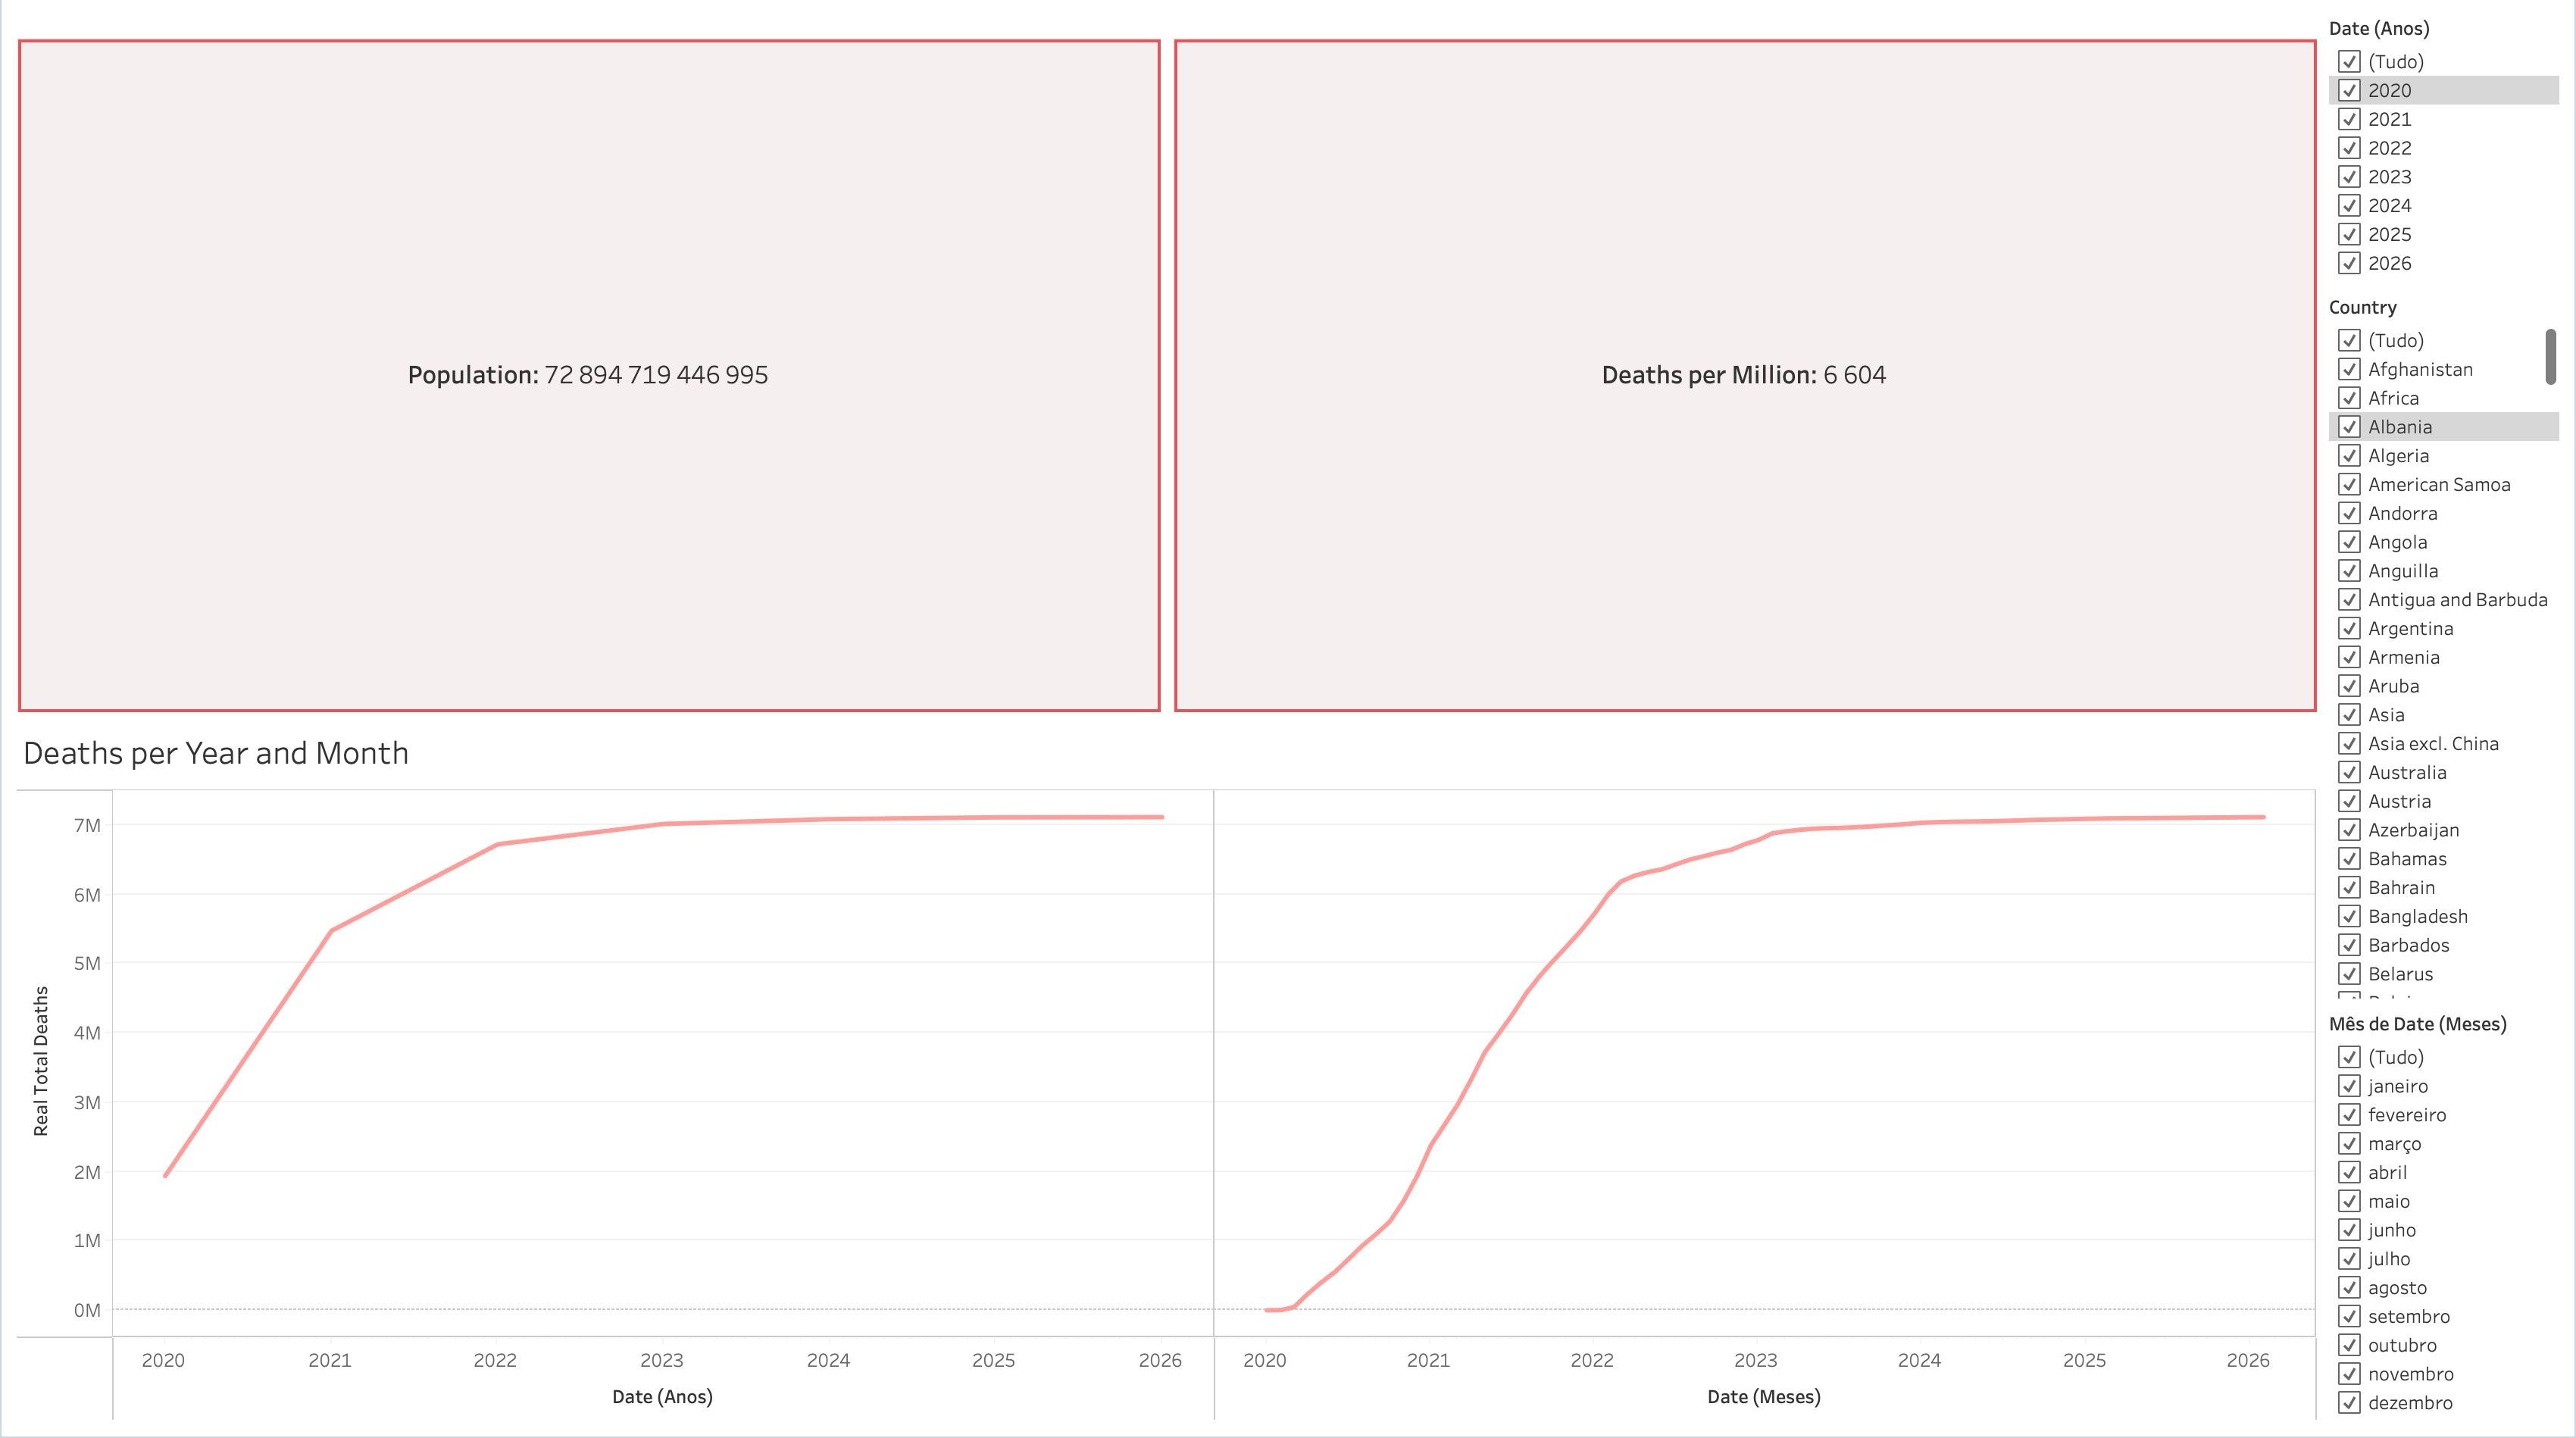

Layout of this report page (visuals, bound fields, positions):
{"tool":"tableau","page":{"name":"Summary 2","canvas":[1000,1000],"units":"permille","ordinal":1},"visuals":[{"type":"worksheet","title":"População","mark":"Automatic","box":[5.3,8.4,442,491.6]},{"type":"worksheet","title":"Planilha 10","mark":"Automatic","box":[447.2,8.4,442,491.6]},{"type":"filter","title":"Deaths per Year and Month","param":"[federated.0t9ucq11tqin3y0zksvj31c0xcmw].[none:Date (Anos):ok]","box":[889.3,8.4,105.5,193.3]},{"type":"filter","title":"População","param":"[federated.0t9ucq11tqin3y0zksvj31c0xcmw].[none:country:nk]","box":[889.3,201.7,105.5,496.9]},{"type":"worksheet","title":"Deaths per Year and Month","mark":"Automatic","rows":["Calculation_5171412117835782"],"cols":["Date (Anos)","Date (Meses)"],"box":[5.3,500,884,491.6]},{"type":"filter","title":"População","param":"[federated.0t9ucq11tqin3y0zksvj31c0xcmw].[mn:Date (Meses):ok]","box":[889.3,698.5,105.5,293.1]}]}

Visuals, with their boxes on the dashboard's canvas, which has no fixed pixel size, in thousandths of its width and height (x1, y1, x2, y2). These are canvas units, not pixel positions in the 2576x1438 screenshot, which may show the page scaled, cropped or inside an application window:
"População" worksheet: box=[5, 8, 447, 500]
"Planilha 10" worksheet: box=[447, 8, 889, 500]
"Deaths per Year and Month" filter: box=[889, 8, 995, 202]
"População" filter: box=[889, 202, 995, 699]
"Deaths per Year and Month" worksheet: box=[5, 500, 889, 992]
"População" filter: box=[889, 698, 995, 992]
